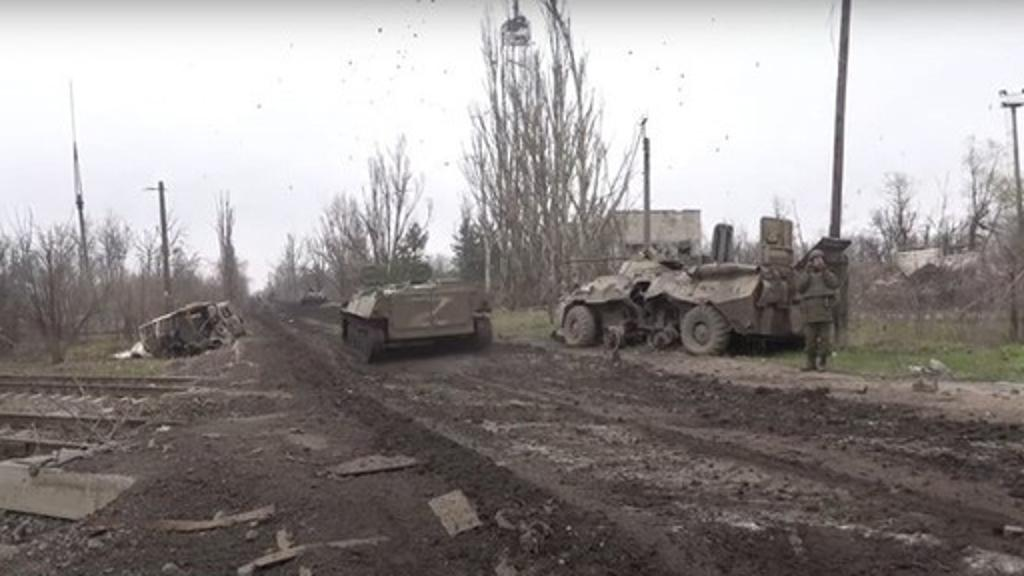APC-IFV: (540, 226, 846, 390), (334, 270, 486, 376)
